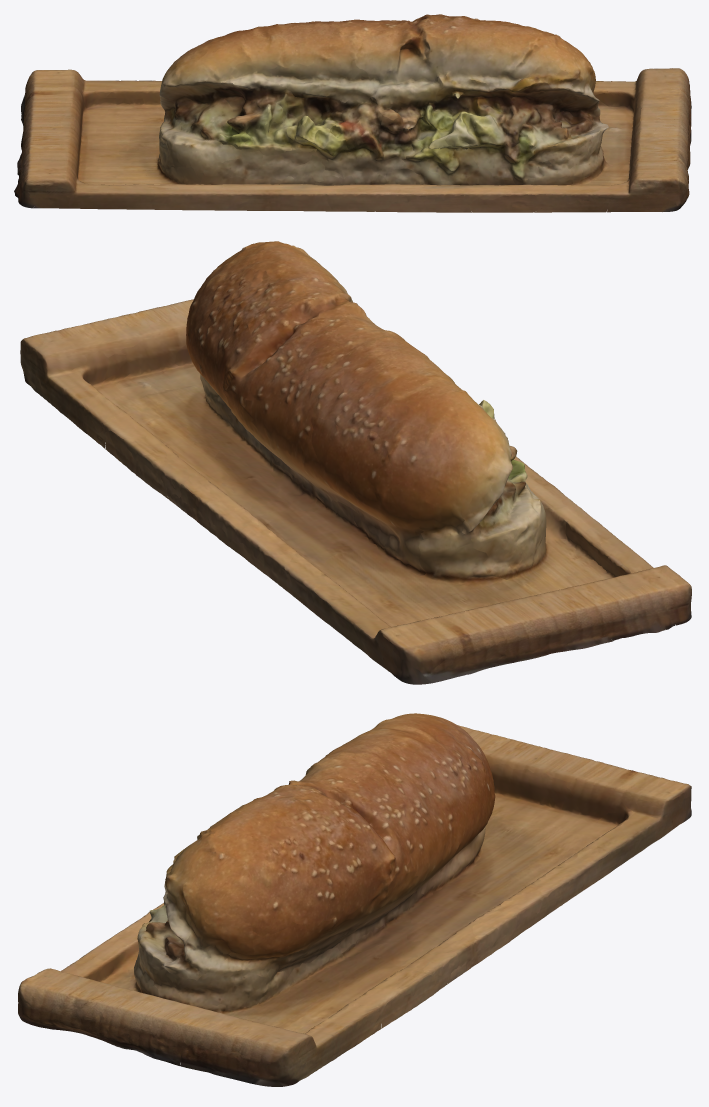
Rendered from sandwich.02.glb.
3 views of the same model, one above another, from view 1: azimuth 30°, elevation 25°; view 2: azimuth 150°, elevation 25°; view 3: azimuth 270°, elevation 25° (orthographic). The views are drawn at different scales.
Parts seen in each view (by area): view 1: /Root/Scenes/Scene/Object_289/Object_290/Submesh_0; view 2: /Root/Scenes/Scene/Object_289/Object_290/Submesh_0; view 3: /Root/Scenes/Scene/Object_289/Object_290/Submesh_0.
Part boxes in pixels (x1=…): /Root/Scenes/Scene/Object_289/Object_290/Submesh_0: x1=14, y1=14, x2=691, y2=212; /Root/Scenes/Scene/Object_289/Object_290/Submesh_0: x1=20, y1=241, x2=691, y2=684; /Root/Scenes/Scene/Object_289/Object_290/Submesh_0: x1=18, y1=713, x2=691, y2=1086.
Bounding box in the file's own units: 0.3931 × 0.085 × 0.3196.
2 materials, 1 textured.
